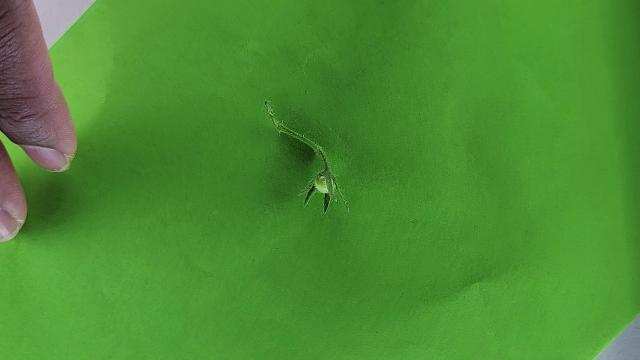Fruit Bud: (303, 171, 335, 211)
